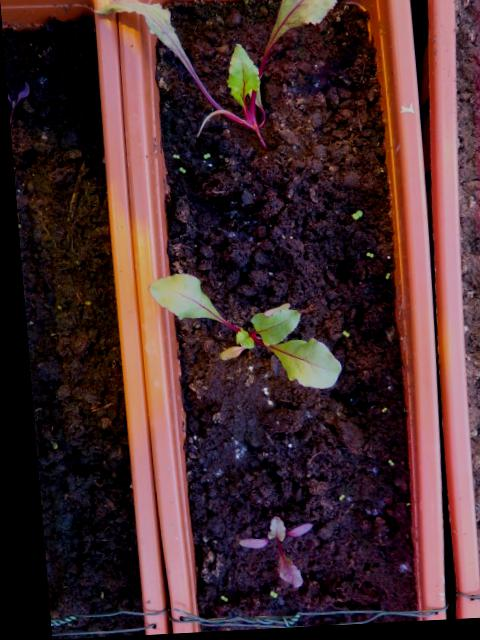weed: (343, 210, 360, 227), (373, 272, 387, 290), (254, 589, 269, 604), (205, 591, 219, 607), (333, 329, 345, 343), (197, 151, 210, 163), (375, 459, 386, 473), (370, 407, 382, 419), (357, 251, 370, 262), (326, 493, 337, 506), (165, 152, 178, 162), (172, 166, 183, 177)
